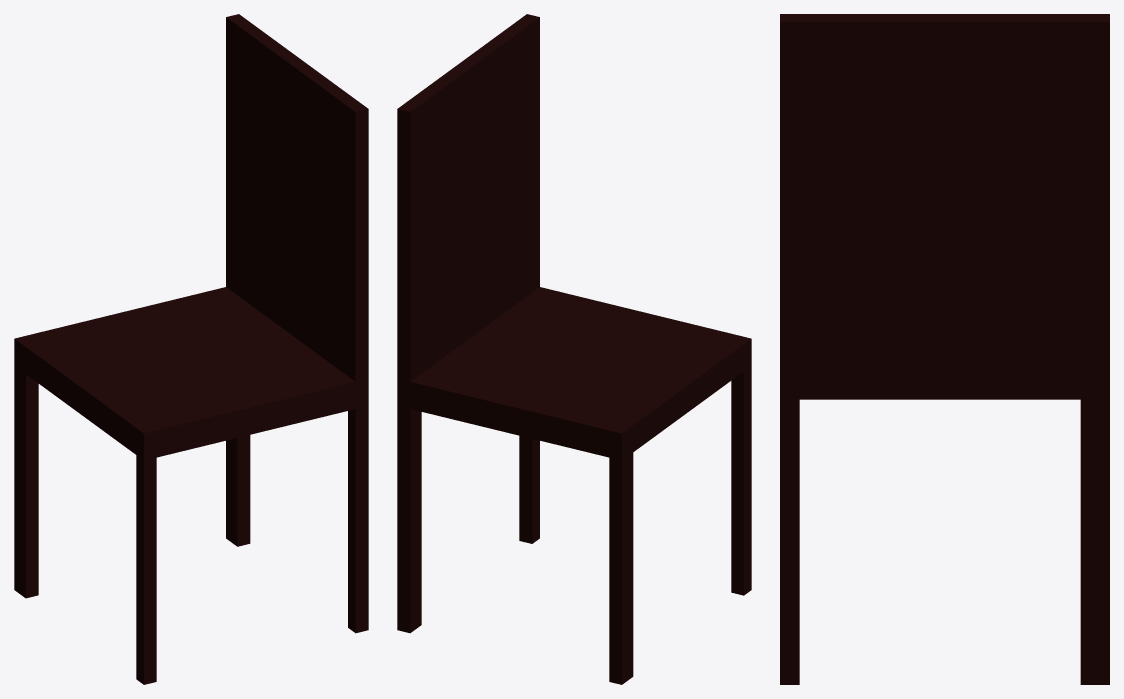
The model's file is chair.fbx.
The picture shows the model from 3 angles, left to right: view 1: azimuth 30°, elevation 25°; view 2: azimuth 150°, elevation 25°; view 3: azimuth 270°, elevation 25°; orthographic projection. The views are drawn at different scales.
Visible parts, largest first — view 1: chaise; view 2: chaise; view 3: chaise.
Part boxes in pixels (<box>): chaise: <box>14,14,368,684</box>; chaise: <box>397,14,751,684</box>; chaise: <box>780,14,1109,684</box>.
Size of the model in its own units: 60.29 by 134 by 60.29.
